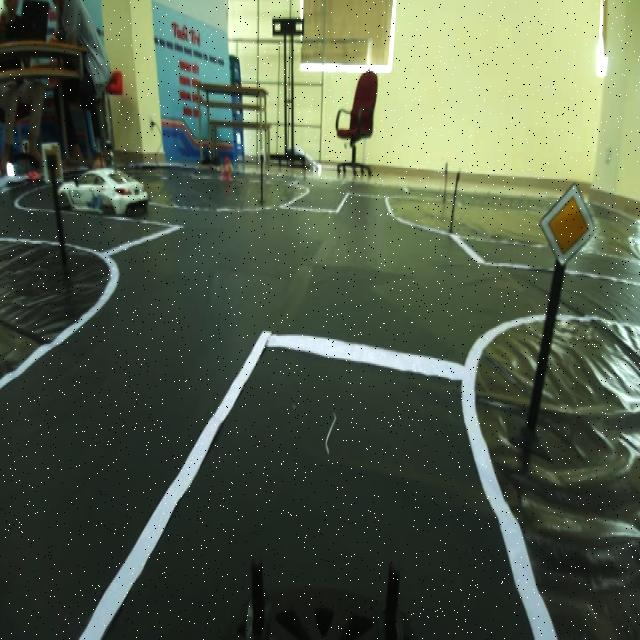priority: (541, 176, 599, 277)
